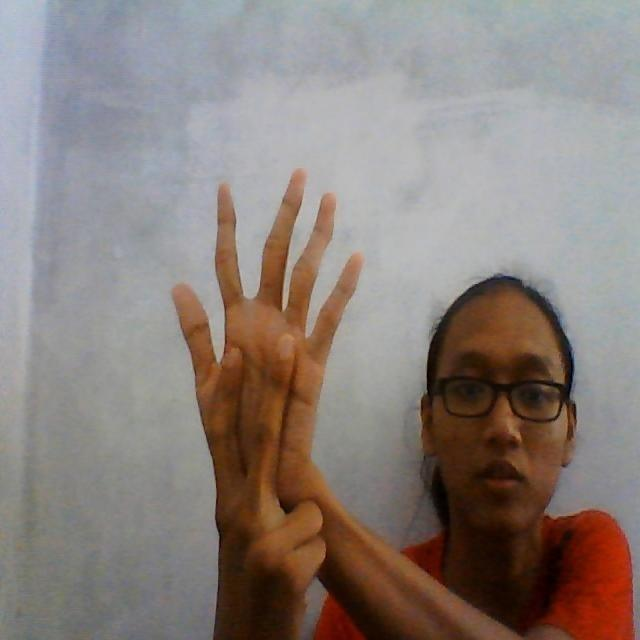N: (166, 160, 373, 571)
